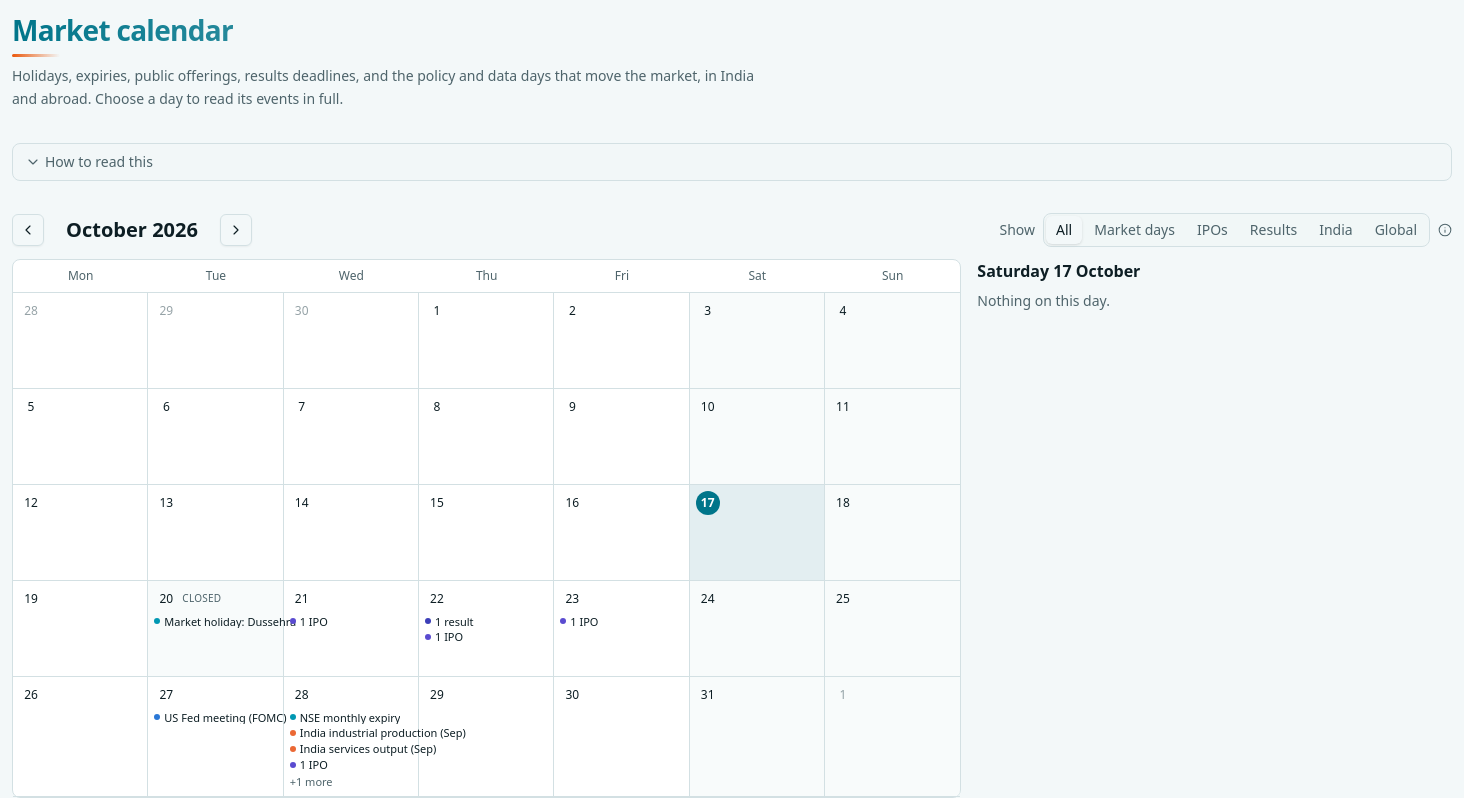
MarketCalendar › pages to another month, whose day says its time in India and links its source
Expected: the heading "October 2026" is shown, [66,216,198,242]
Step 1. Click the button named "Next month" → [236, 230], box [220,214,252,246]
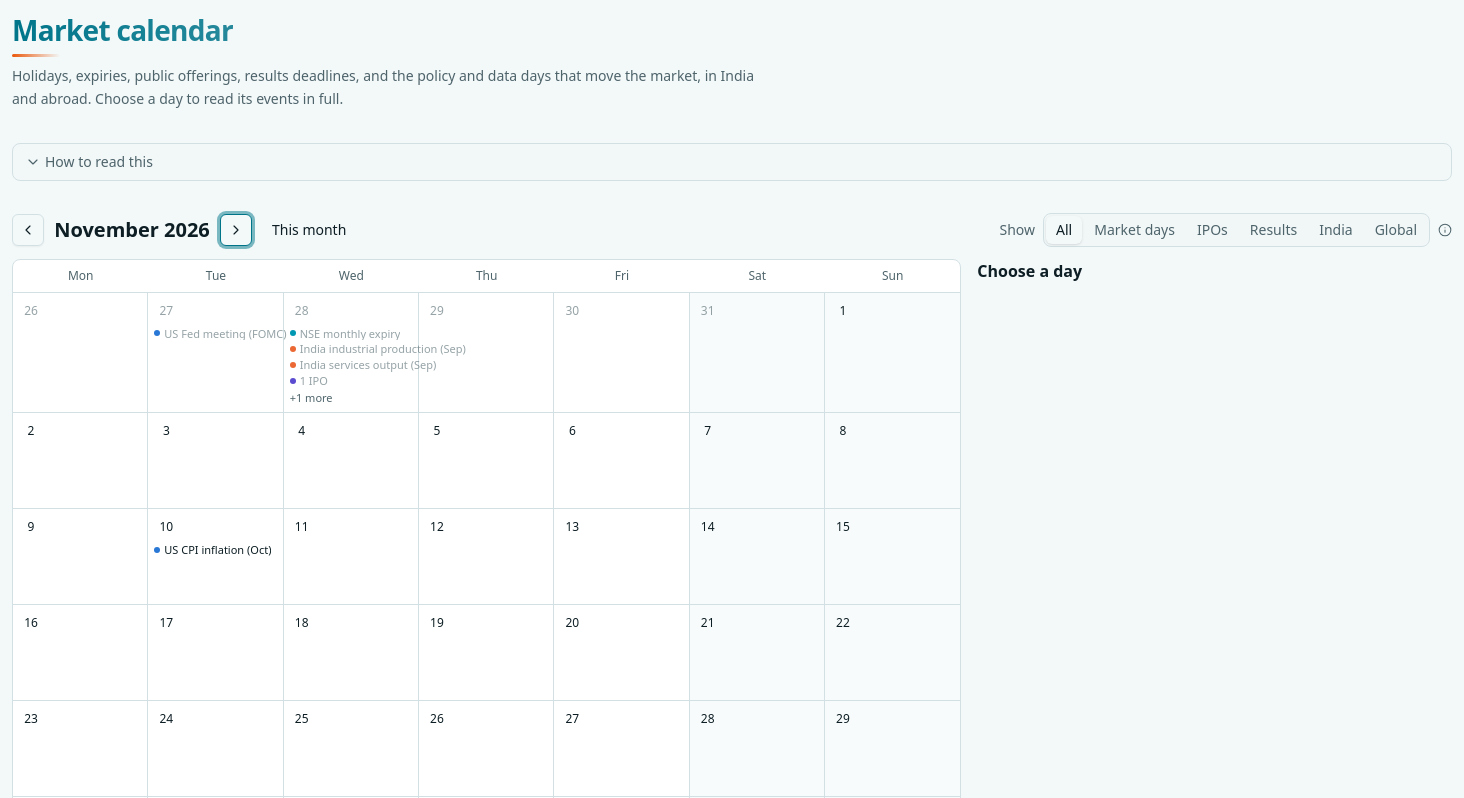
Step 2. Click the button with aria-label "10 Nov 2026" → [216, 557], box [148,509,284,605]
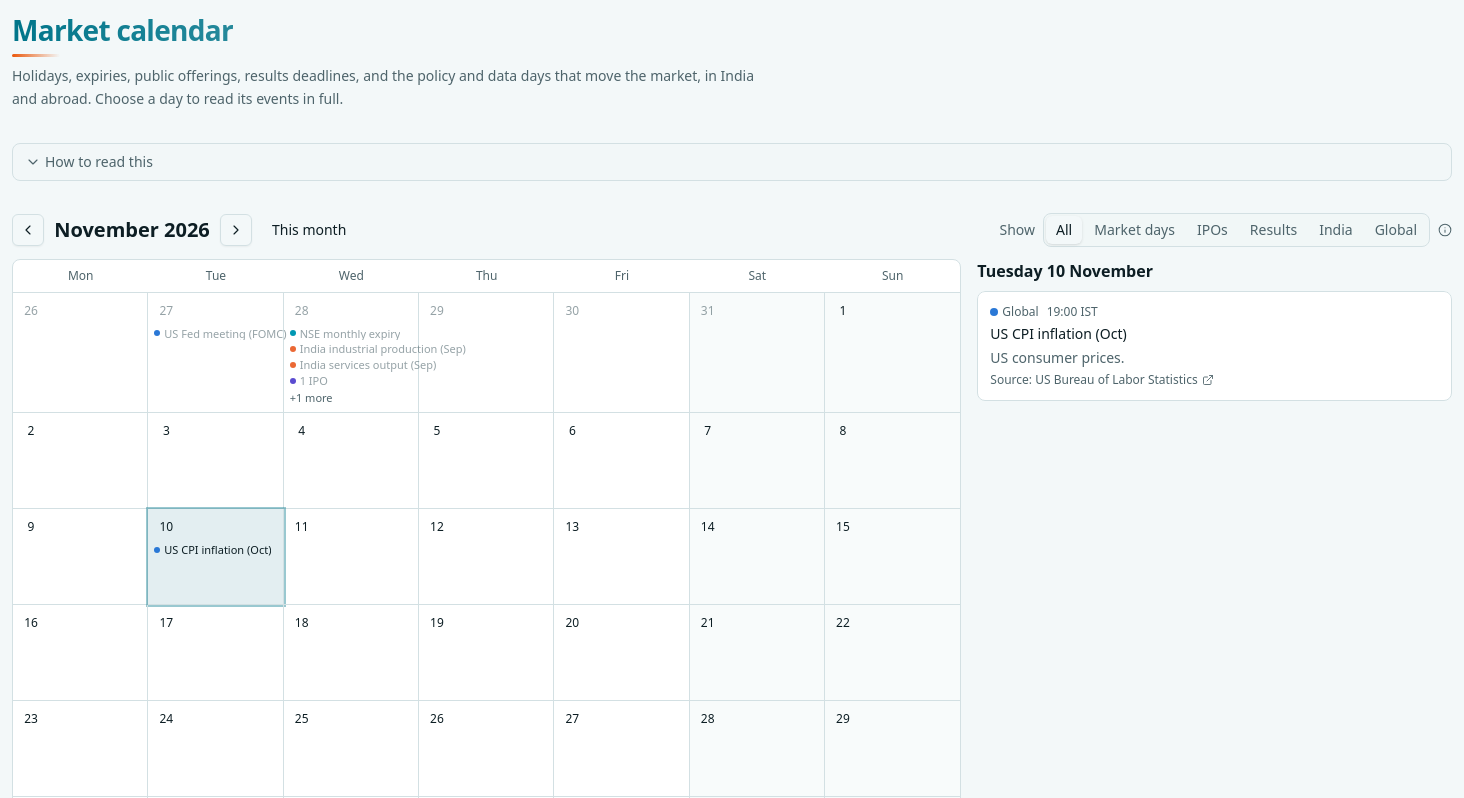
Now the text "19:00 IST" is shown, box [1047,304,1098,320]
Step 3. Click the button "This month" → [309, 230], box [260,214,358,246]
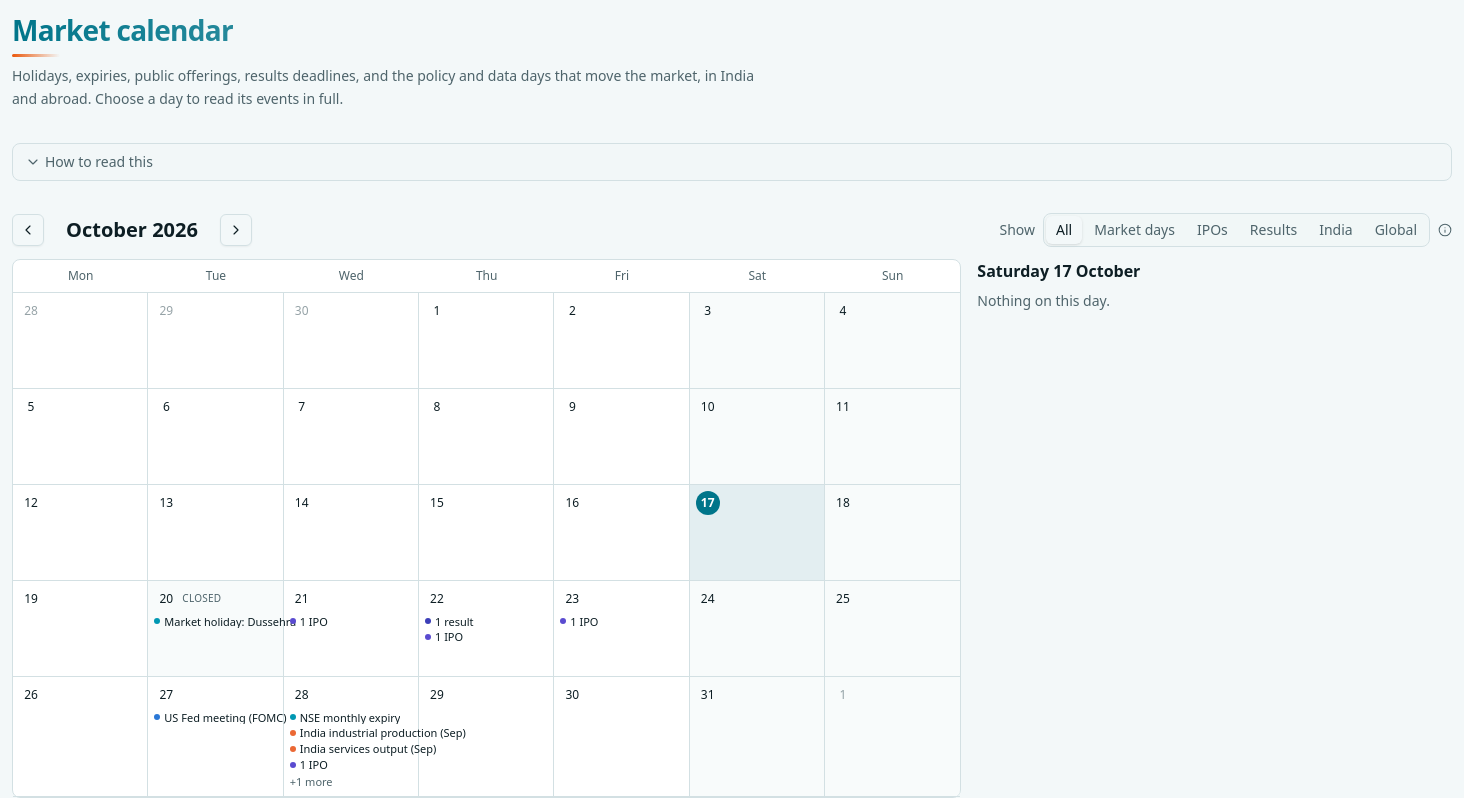
Now the heading "October 2026" is shown, box [66,216,198,242]
